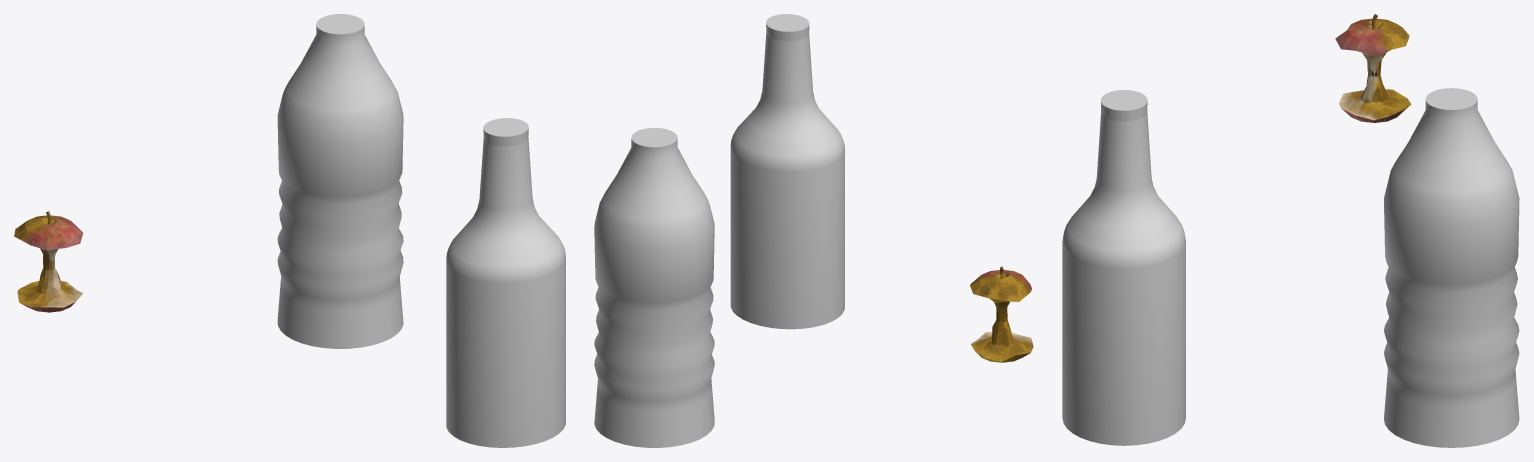
Rendered from ProjetBLendDECHET.fbx.
The picture shows the model from 3 angles, left to right: view 1: azimuth 30°, elevation 25°; view 2: azimuth 150°, elevation 25°; view 3: azimuth 270°, elevation 25°; orthographic projection. The views are drawn at different scales.
Parts seen in each view (by area): view 1: Circle, Circle.001, pSphere2_lambert1_0; view 2: Circle, Circle.001, pSphere2_lambert1_0; view 3: Circle, Circle.001, pSphere2_lambert1_0.
Part boxes in pixels (bbox=[...]): Circle: bbox=[277, 14, 403, 348]; Circle.001: bbox=[446, 118, 565, 447]; pSphere2_lambert1_0: bbox=[14, 211, 83, 312]; Circle: bbox=[594, 128, 714, 447]; Circle.001: bbox=[730, 14, 844, 329]; pSphere2_lambert1_0: bbox=[970, 266, 1033, 362]; Circle: bbox=[1384, 88, 1519, 447]; Circle.001: bbox=[1062, 90, 1185, 445]; pSphere2_lambert1_0: bbox=[1335, 14, 1411, 122].
Bounding box in the file's own units: 165 × 113 × 143.
1 material, 1 textured.
